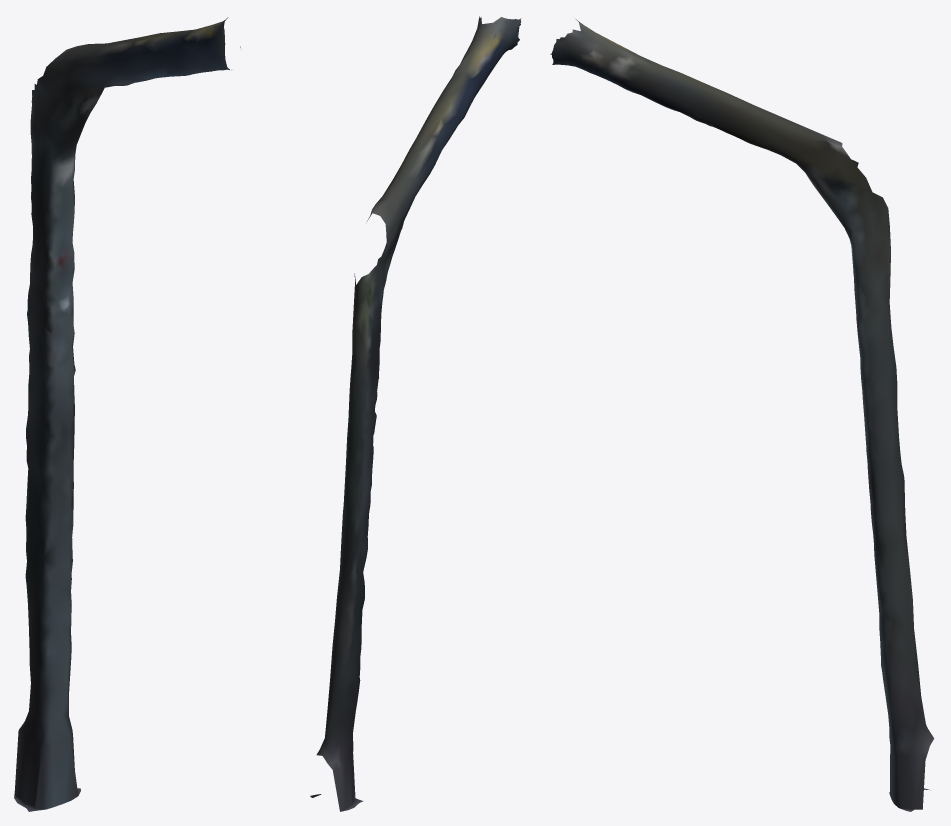
Rendered from poteau.glb.
3 renders of one model, left to right at view 1: azimuth 30°, elevation 25°; view 2: azimuth 150°, elevation 25°; view 3: azimuth 270°, elevation 25°, orthographic. The views are drawn at different scales.
Visible parts, largest first — view 1: poteau; view 2: poteau; view 3: poteau.
Boxes of the visible parts, <box> form: poteau: <box>14,17,240,811</box>; poteau: <box>310,16,521,811</box>; poteau: <box>550,19,934,811</box>.
Size of the model in its own units: 0.275 by 3.33 by 1.51.
